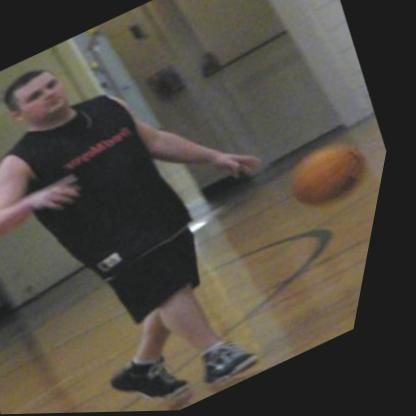basketball: (283, 135, 387, 222)
